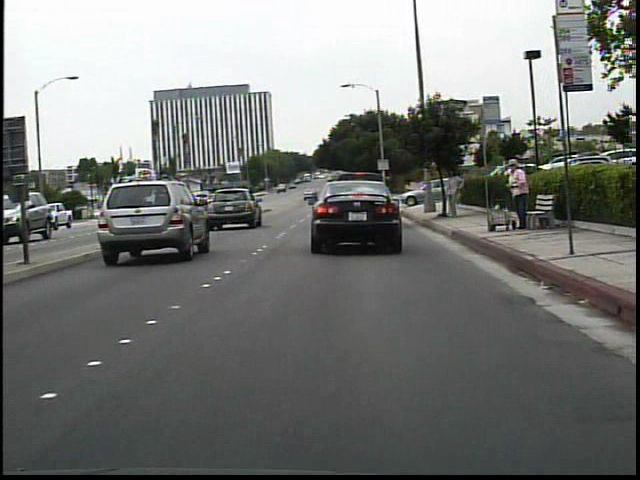person: (499, 155, 529, 229), (441, 165, 468, 221)
